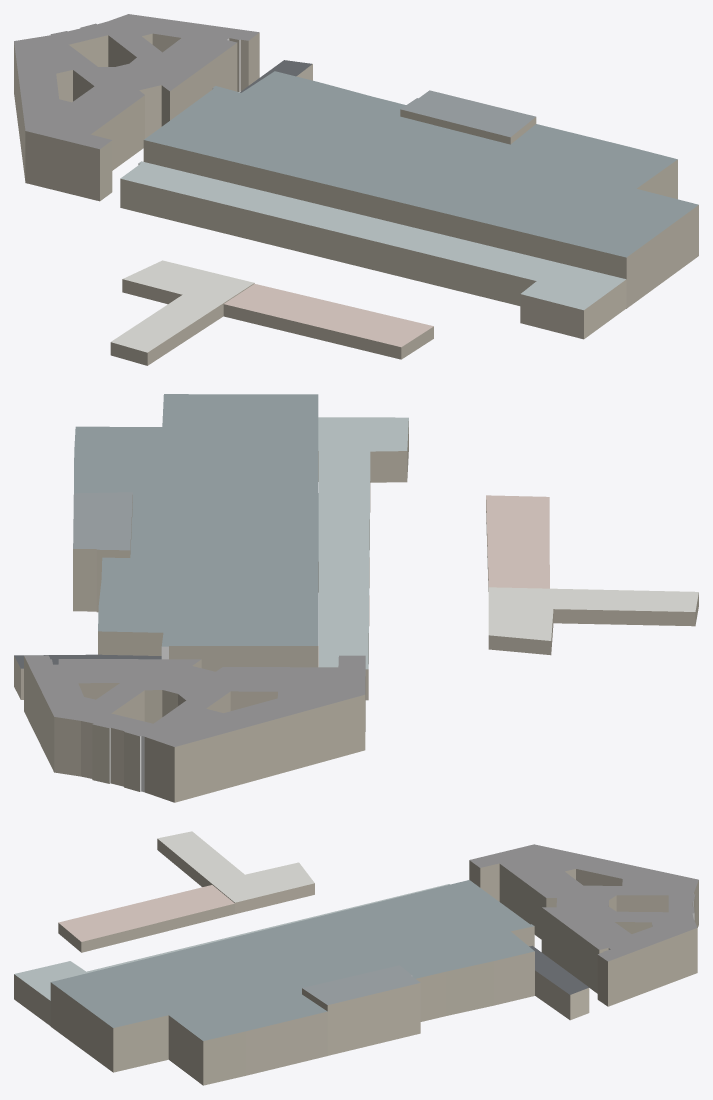
The picture shows the model from 3 angles, top to bottom: view 1: azimuth 30°, elevation 25°; view 2: azimuth 150°, elevation 25°; view 3: azimuth 270°, elevation 25°; orthographic projection. The views are drawn at different scales.
Visible parts, largest first — view 1: tuile; view 2: tuile; view 3: tuile.
Boxes of the visible parts, x1,y1,x2,y2 form: tuile: (14, 14, 698, 365); tuile: (14, 394, 698, 802); tuile: (14, 831, 698, 1085).
Bounding box in the file's own units: 235 × 22.99 × 280.
